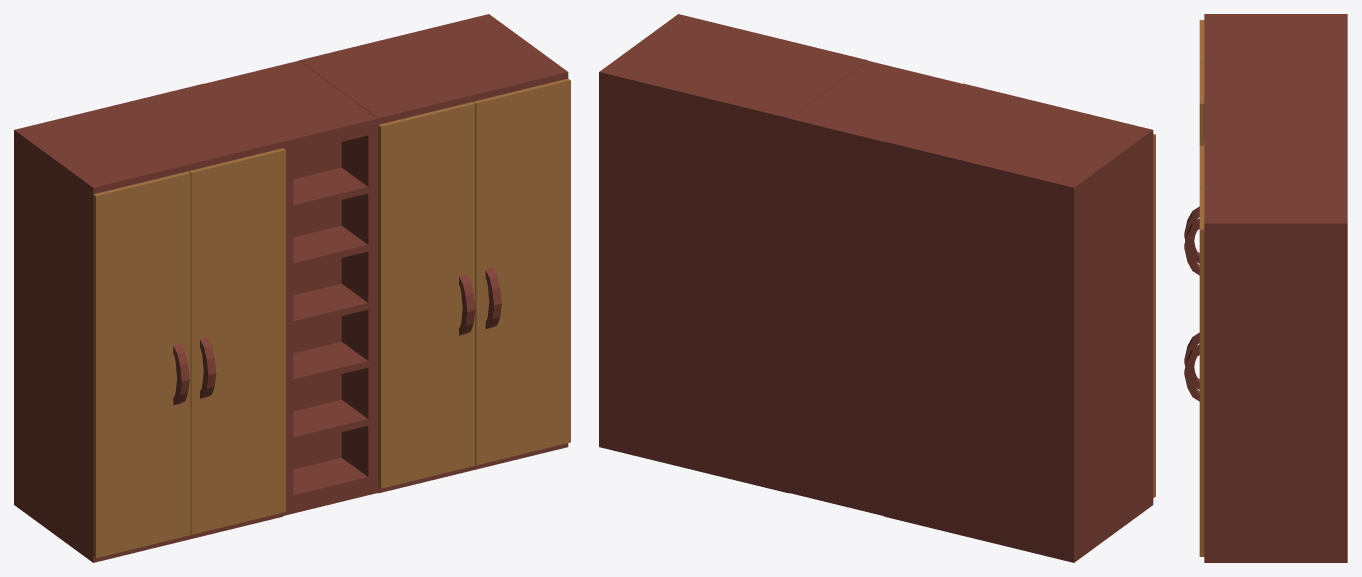
File: twin_wardrobe.glb
The picture shows the model from 3 angles, left to right: view 1: azimuth 30°, elevation 25°; view 2: azimuth 150°, elevation 25°; view 3: azimuth 270°, elevation 25°; orthographic projection. The views are drawn at different scales.
Parts seen in each view (by area): view 1: Twin_Wardrobe; view 2: Twin_Wardrobe; view 3: Twin_Wardrobe.
Part boxes in pixels (x1=…): Twin_Wardrobe: x1=14, y1=14, x2=570, y2=562; Twin_Wardrobe: x1=599, y1=14, x2=1155, y2=562; Twin_Wardrobe: x1=1184, y1=14, x2=1347, y2=562.
Size of the model in its own units: 3.4 by 2.57 by 1.12.
Materials: 1 (1 with a texture image).
